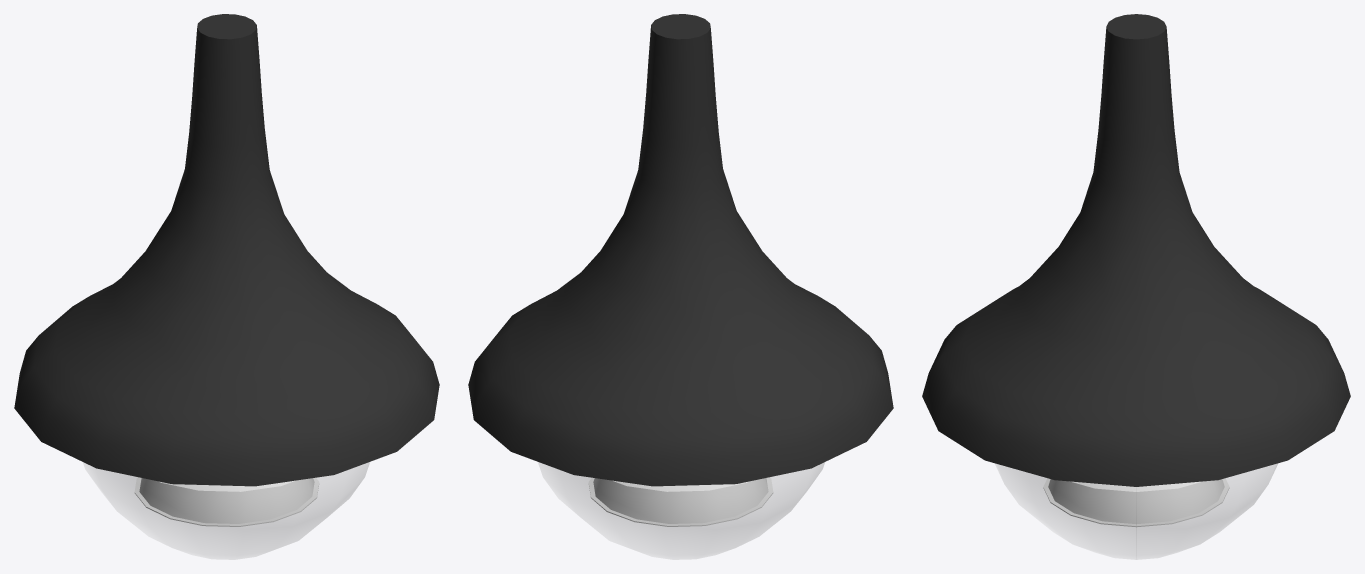
Rendered from Kleine_Glocke.glb.
The picture shows the model from 3 angles, left to right: view 1: azimuth 30°, elevation 25°; view 2: azimuth 150°, elevation 25°; view 3: azimuth 270°, elevation 25°; orthographic projection.
Parts seen in each view (by area): view 1: Kleine Glocke LED. 16 Segmente, Kleine Glocke LED 16 Segmente Glas, Lampeninneres.001; view 2: Kleine Glocke LED. 16 Segmente, Kleine Glocke LED 16 Segmente Glas, Lampeninneres.001; view 3: Kleine Glocke LED. 16 Segmente, Kleine Glocke LED 16 Segmente Glas, Lampeninneres.001.
Boxes of the visible parts, x1=… form: Kleine Glocke LED. 16 Segmente: x1=14, y1=14, x2=439, y2=486; Kleine Glocke LED 16 Segmente Glas: x1=83, y1=462, x2=369, y2=559; Lampeninneres.001: x1=134, y1=477, x2=319, y2=526; Kleine Glocke LED. 16 Segmente: x1=468, y1=14, x2=893, y2=486; Kleine Glocke LED 16 Segmente Glas: x1=538, y1=462, x2=824, y2=559; Lampeninneres.001: x1=588, y1=477, x2=773, y2=526; Kleine Glocke LED. 16 Segmente: x1=922, y1=14, x2=1350, y2=486; Kleine Glocke LED 16 Segmente Glas: x1=995, y1=464, x2=1277, y2=559; Lampeninneres.001: x1=1043, y1=478, x2=1229, y2=527.
Bounding box in the file's own units: 0.4318 × 0.5752 × 0.4318.
4 materials, 3 textured.
